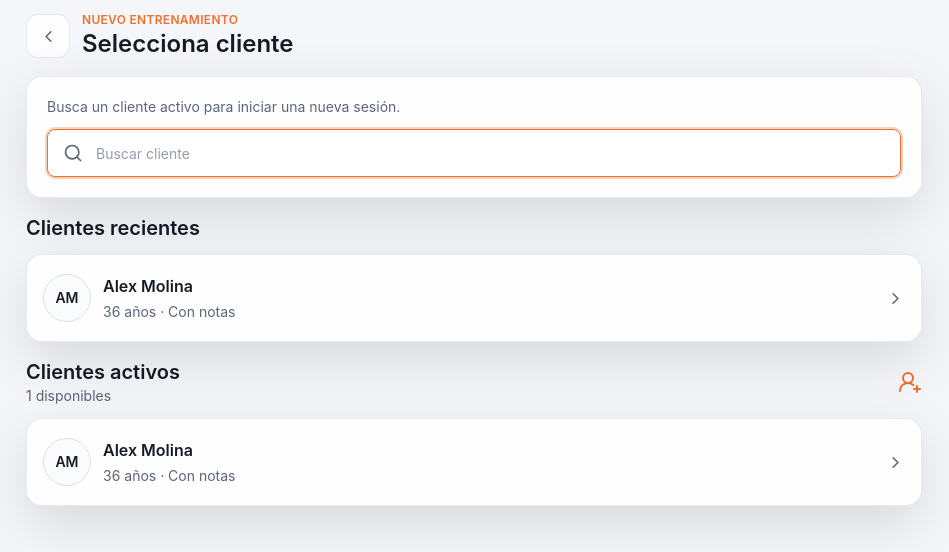
Test: NewTrainingSessionPage › returns to the dashboard and reports empty searches
Step 1. Click the button named "Volver" → [48, 36], box [26,14,70,58]
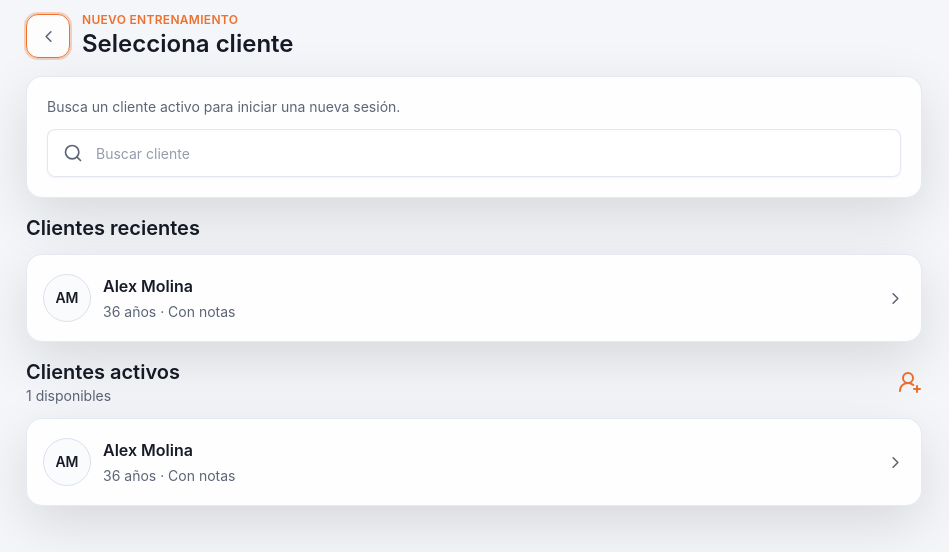
Step 2. Type "Nadie" into the search field with placeholder "Buscar cliente" → [474, 153], box [47,129,901,177]
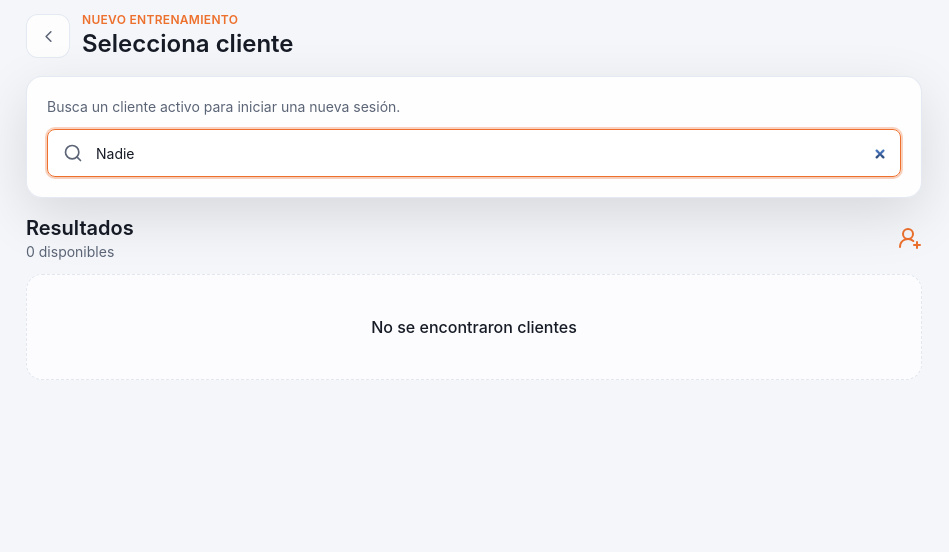
Expected: the text "No se encontraron clientes" is shown, [371,317,577,337]
